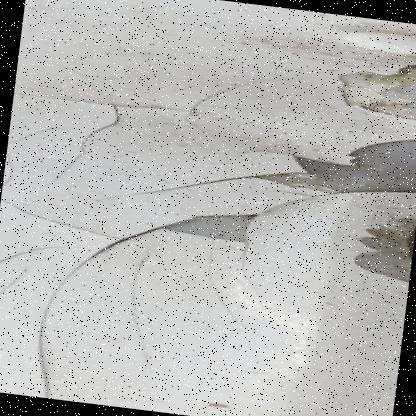Crack: (0, 1, 415, 415), (293, 9, 415, 41)
